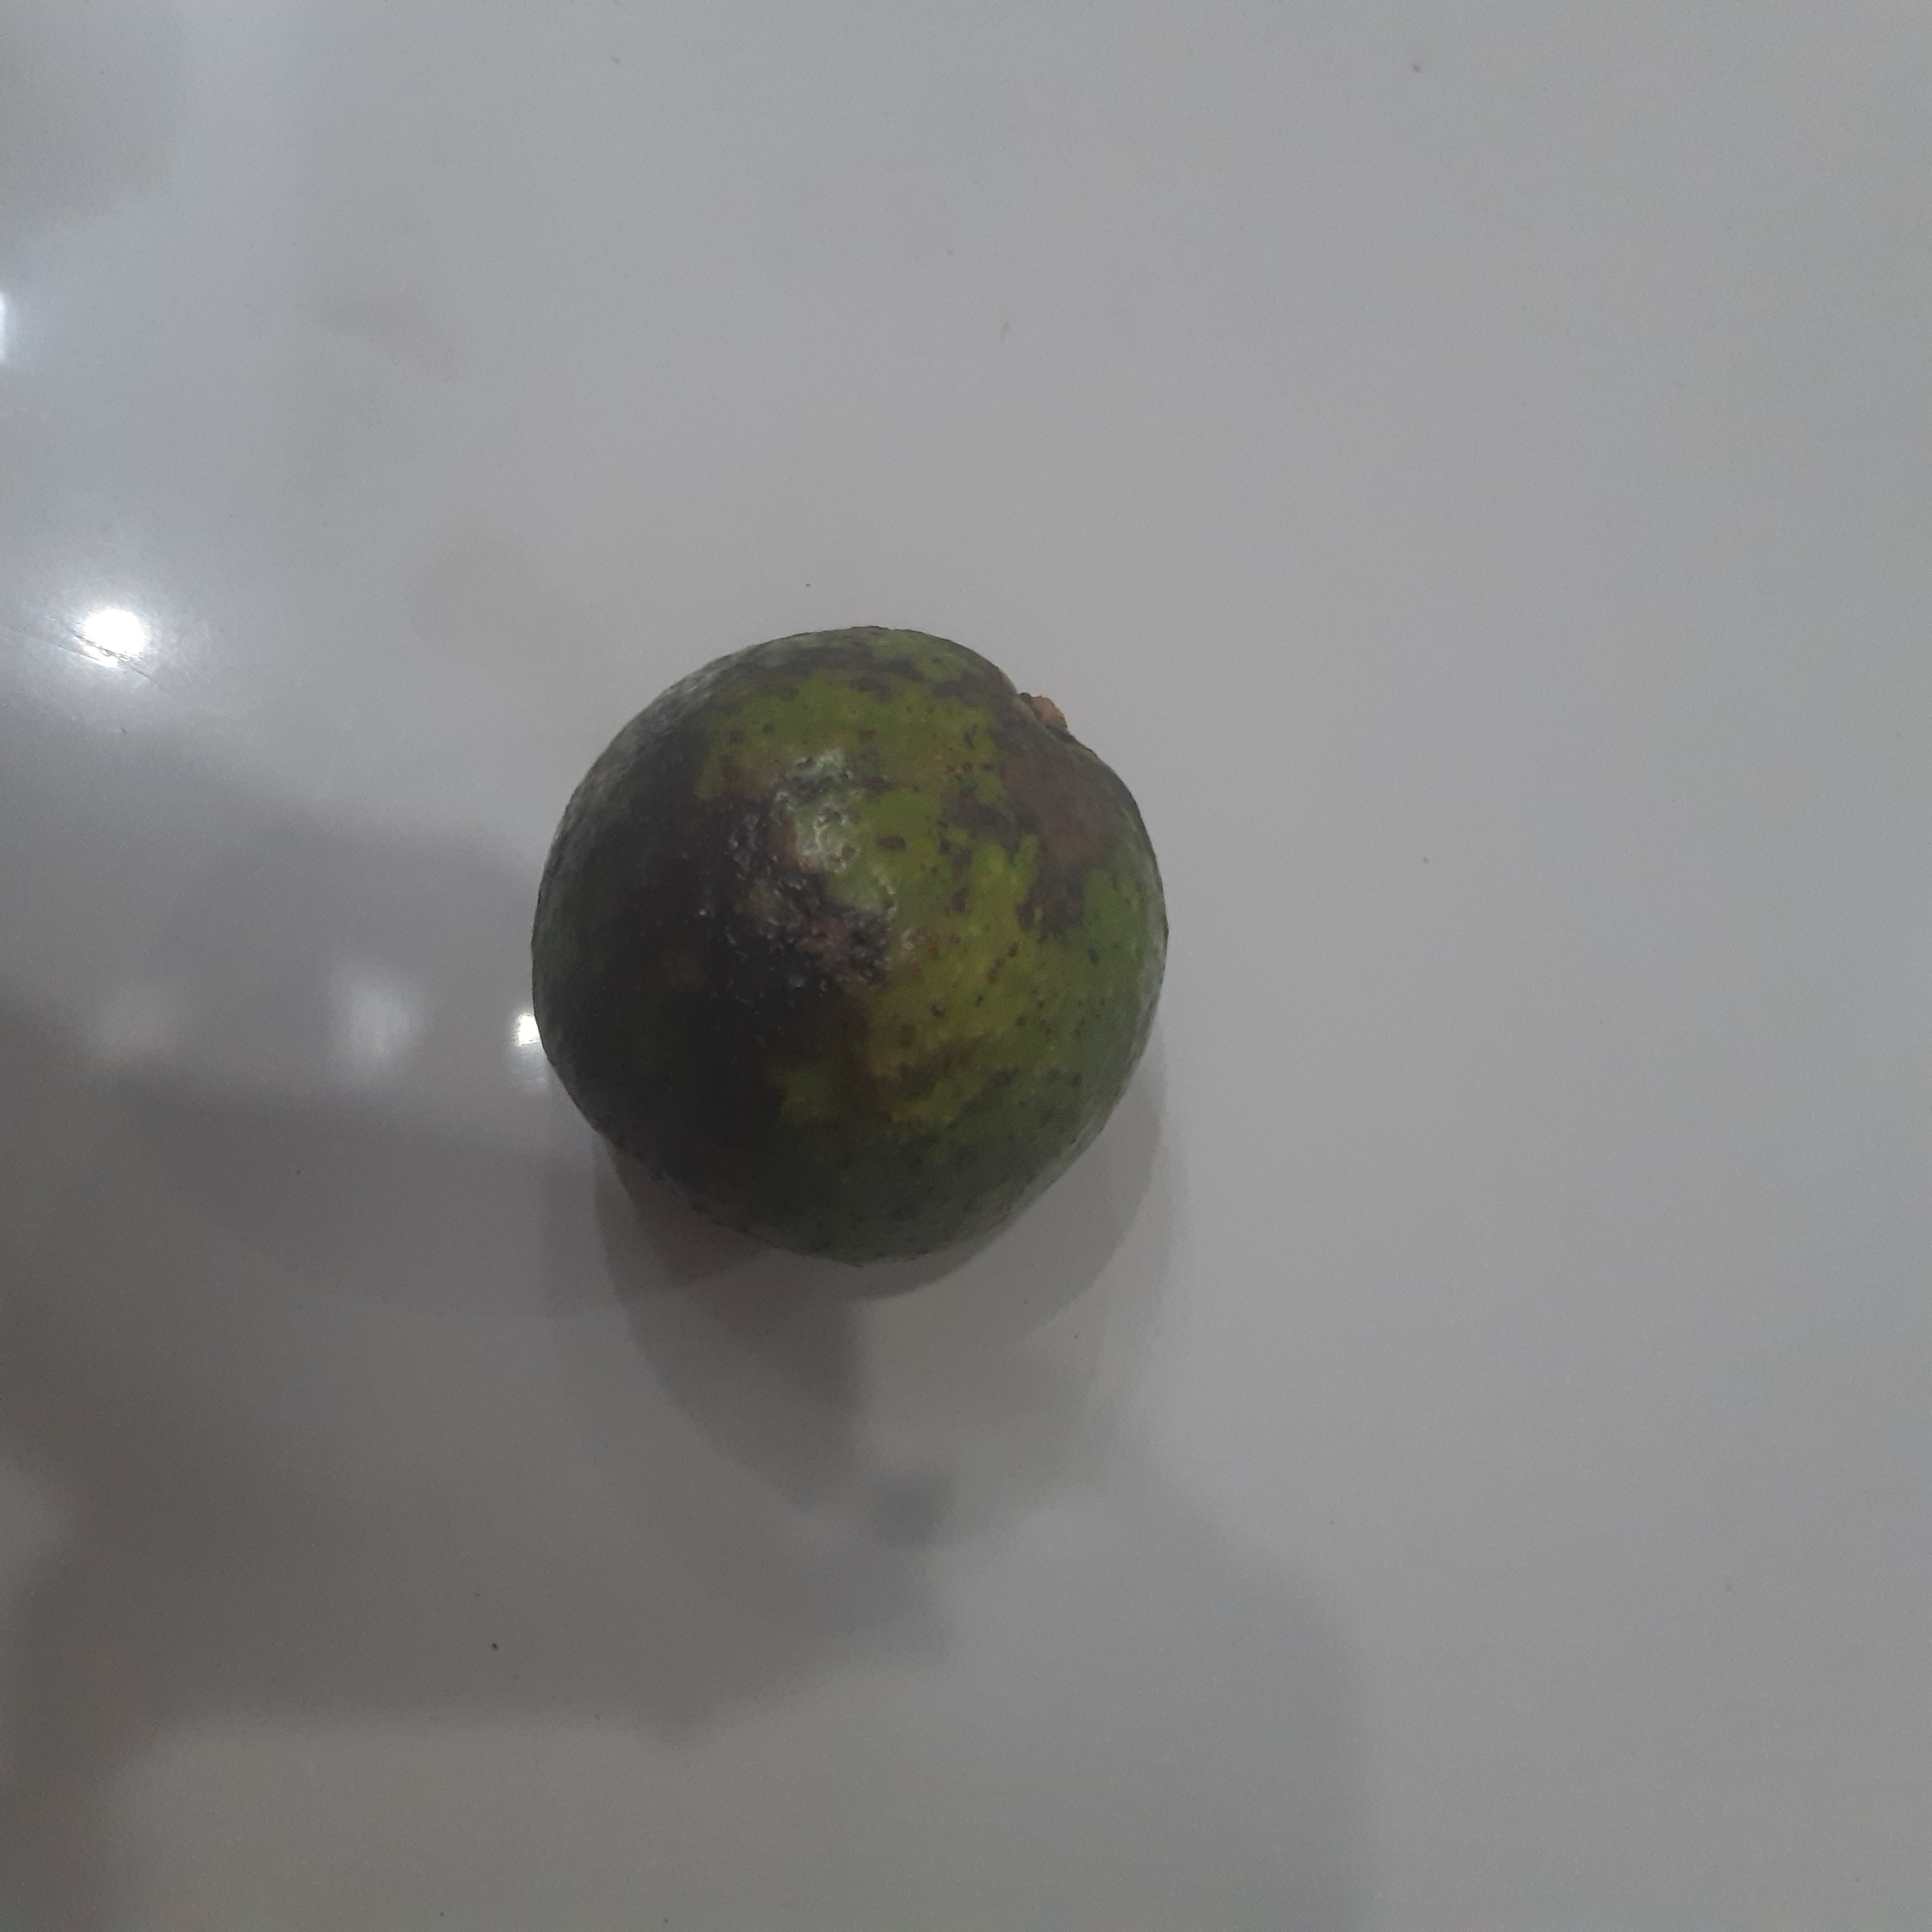Bo: (525, 625, 1169, 1269)
